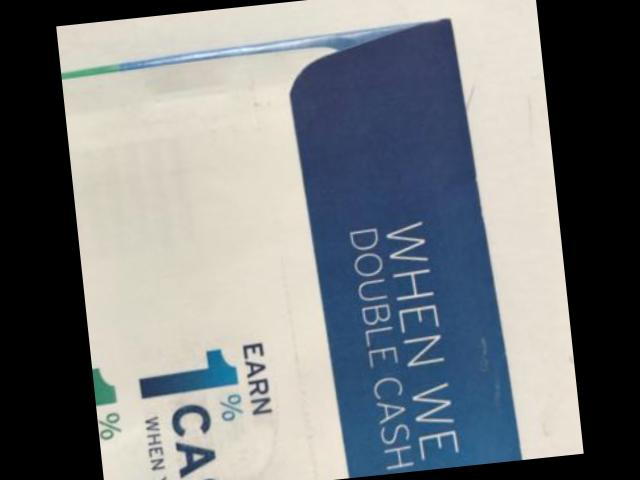cardboard paper: (56, 0, 584, 460), (61, 17, 524, 480)
